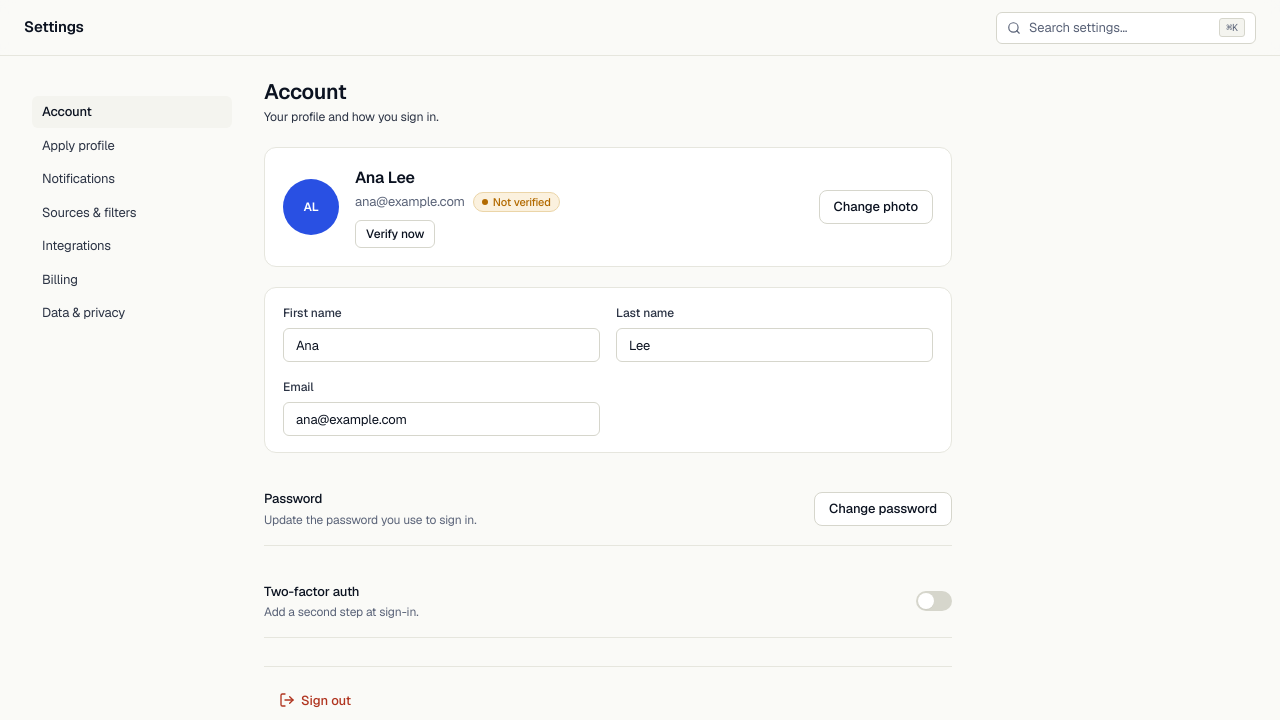
Test: TC-301-06: 429 on resend shows 'Try again later' › shows a try-again-later message and does not reveal the code input
The image size is (1280, 720).
Click the button "Verify now".
click(395, 234)  # box [355,220,435,248]
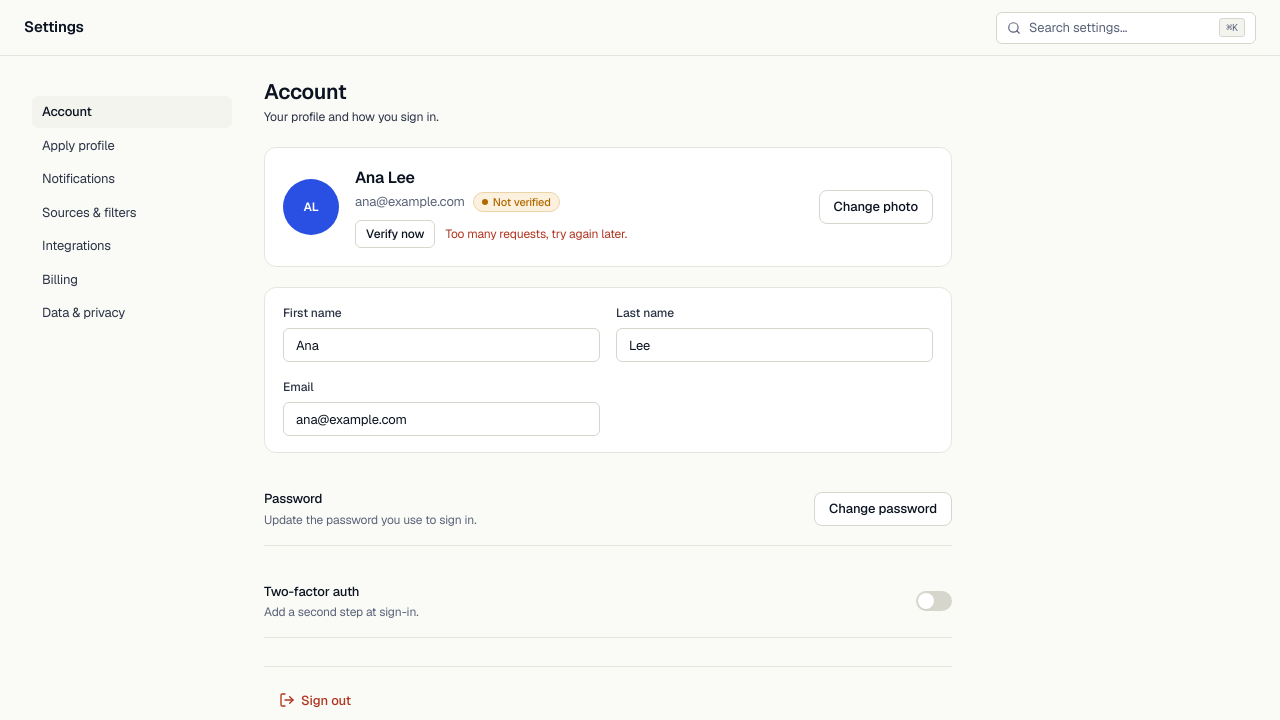
Expected: the text "Too many requests, try again later." is shown, [445,225,627,243]
